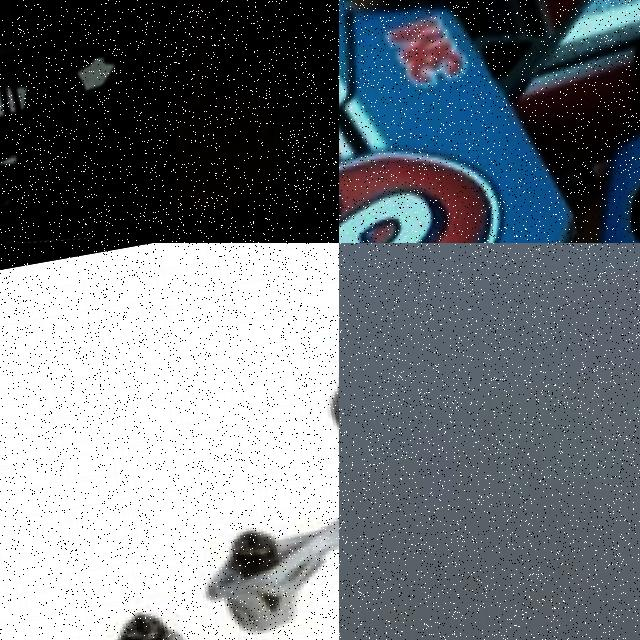drone: (0, 0, 339, 243), (339, 0, 640, 243)
